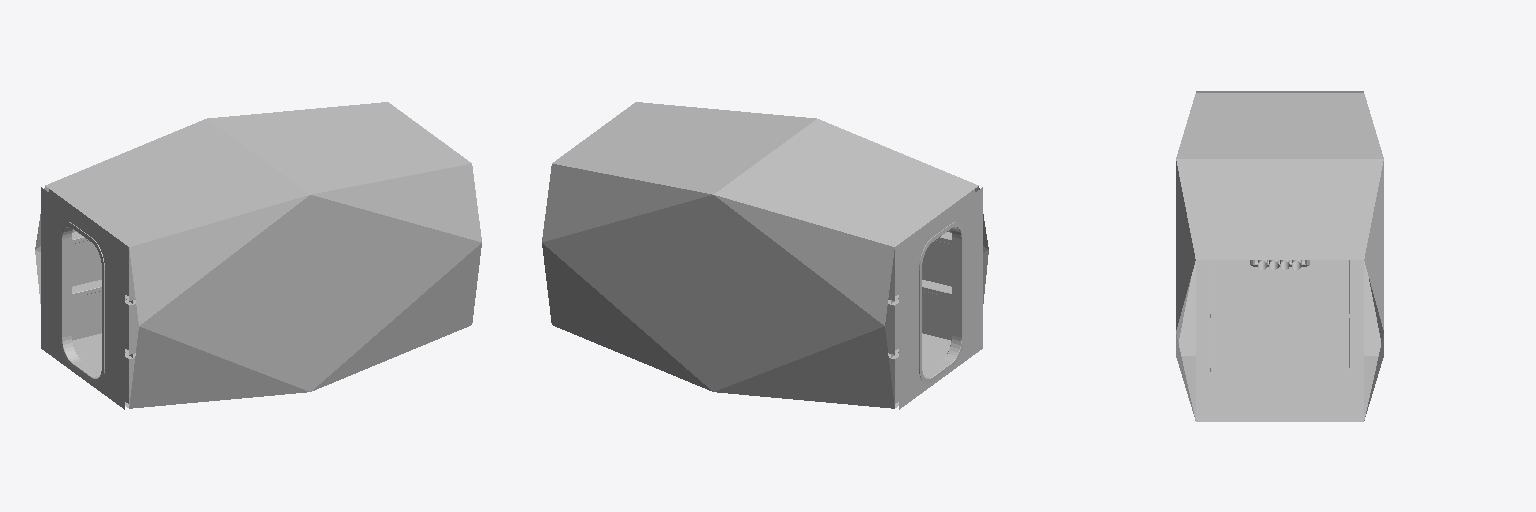
File: Hall2.obj
The picture shows the model from 3 angles: view 1: azimuth 30°, elevation 25°; view 2: azimuth 150°, elevation 25°; view 3: azimuth 270°, elevation 25°; orthographic projection.
Parts seen in each view (by area): view 1: Cube.015_Cube.004; view 2: Cube.015_Cube.004; view 3: Cube.015_Cube.004.
Part boxes in pixels (left/top/right/bottom): Cube.015_Cube.004: left=35, top=102, right=481, bottom=409; Cube.015_Cube.004: left=542, top=102, right=988, bottom=409; Cube.015_Cube.004: left=1176, top=91, right=1383, bottom=421.
Bounding box in the file's own units: 20.3 × 11 × 10.5.